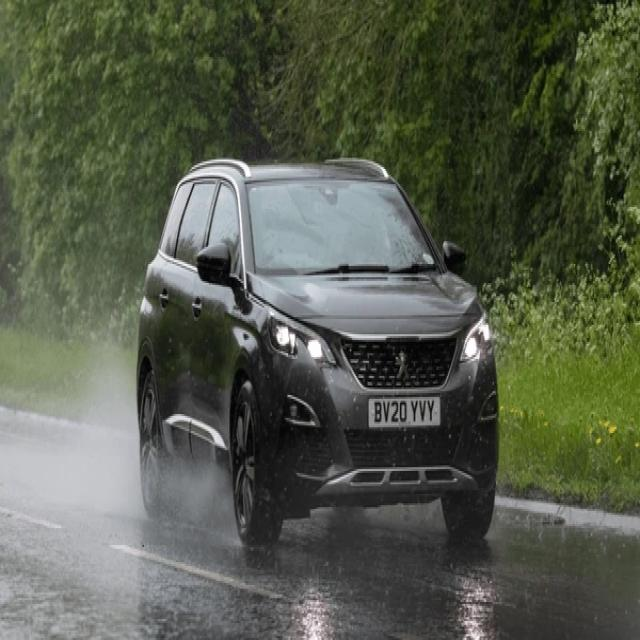pegout: (392, 346, 417, 388)
